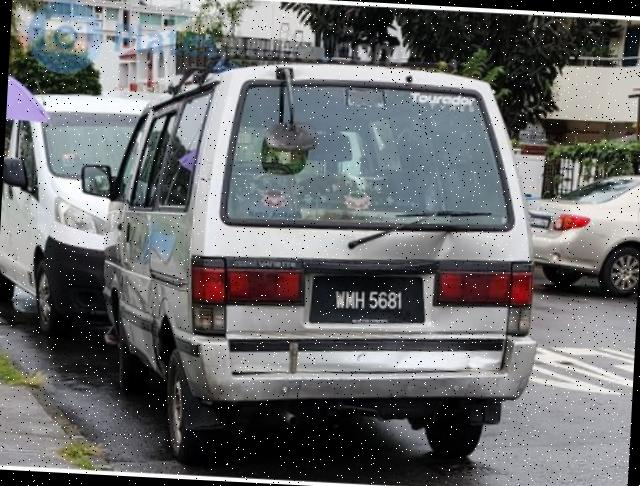License_Plate: (298, 266, 441, 339)
van: (81, 49, 547, 466)
